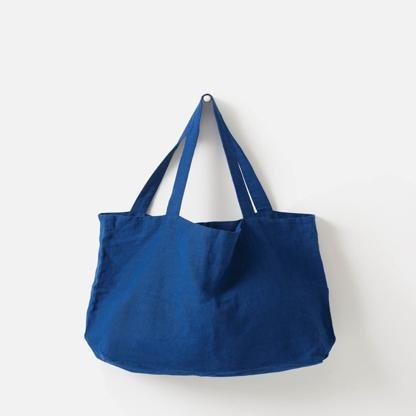not trash: (85, 92, 331, 379)
